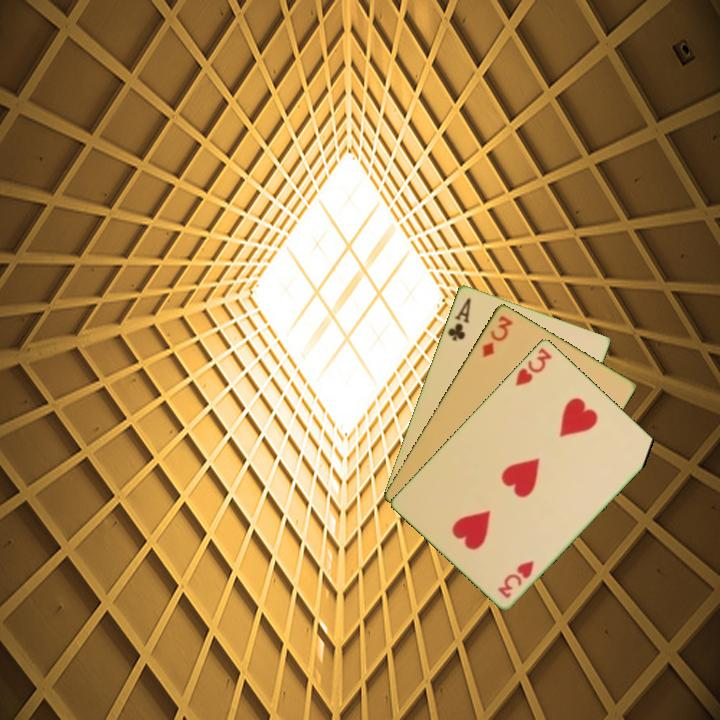3d: (478, 311, 516, 360)
3h: (511, 344, 555, 389), (494, 556, 537, 601)
Ac: (444, 294, 474, 344)
